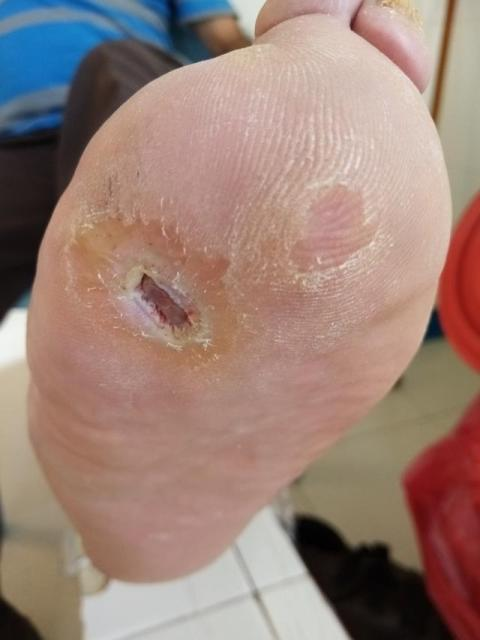wound: (102, 253, 222, 355)
